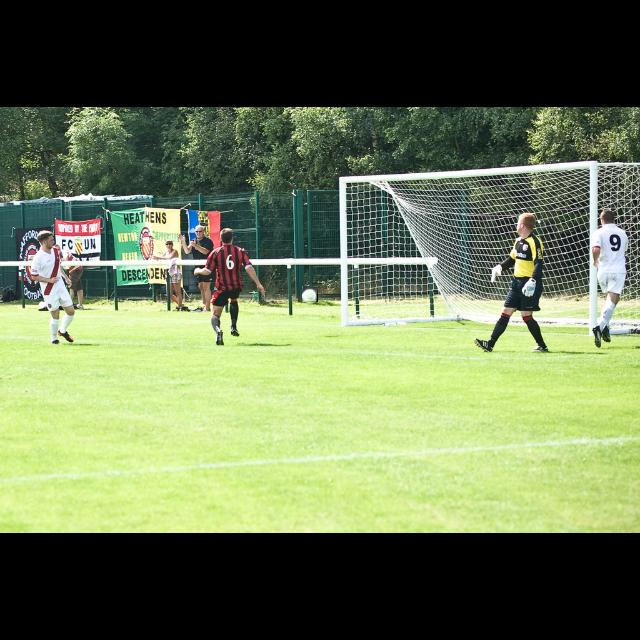Football: (302, 286, 318, 302)
